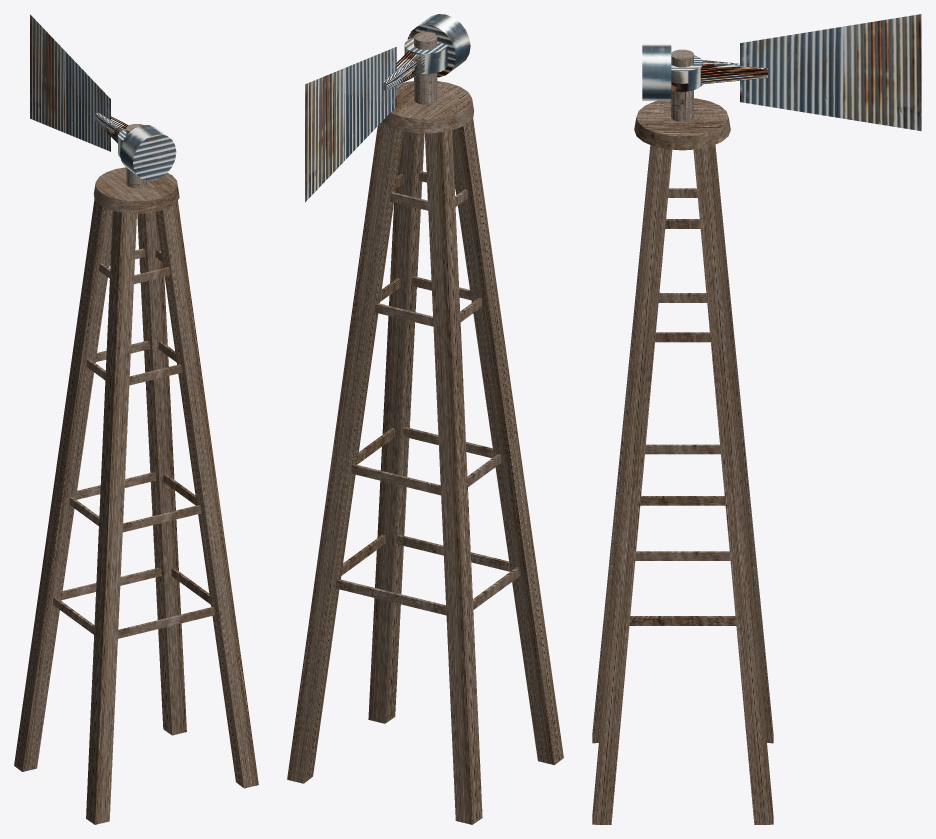
The model's file is WindmillBase.fbx.
3 renders of one model, left to right at view 1: azimuth 30°, elevation 25°; view 2: azimuth 150°, elevation 25°; view 3: azimuth 270°, elevation 25°, orthographic. The views are drawn at different scales.
Parts seen in each view (by area): view 1: pCube24; view 2: pCube24; view 3: pCube24.
Boxes of the visible parts, left/top/right/bottom form: pCube24: left=14, top=14, right=258, bottom=824; pCube24: left=287, top=14, right=563, bottom=824; pCube24: left=592, top=14, right=921, bottom=824.
Bounding box in the file's own units: 308 × 1221 × 476.
3 materials, 3 textured.
